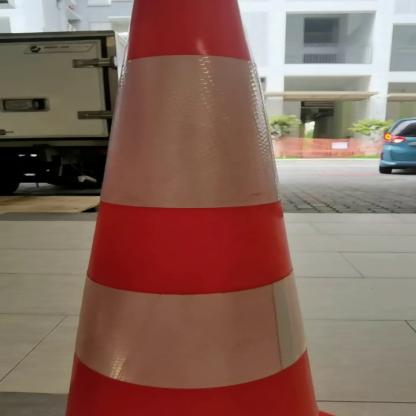cone: (52, 0, 347, 416)
